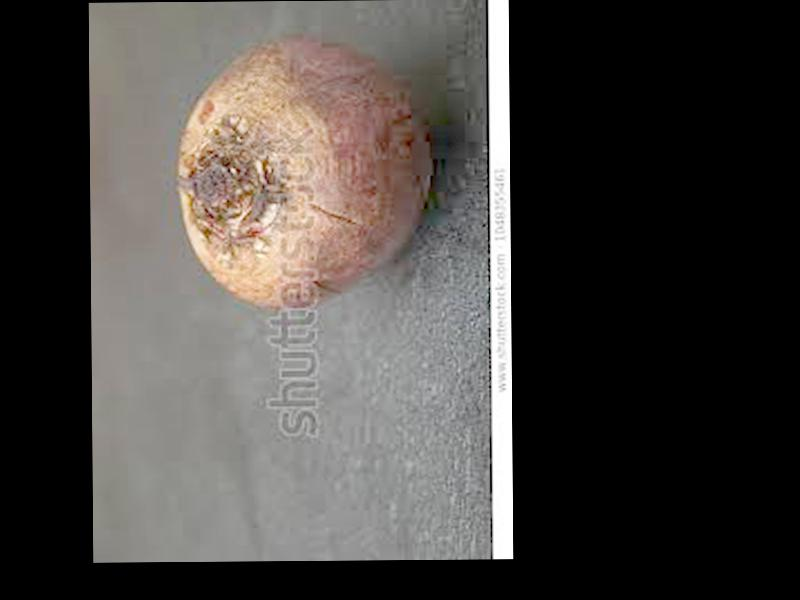Beet: (178, 30, 428, 306)
